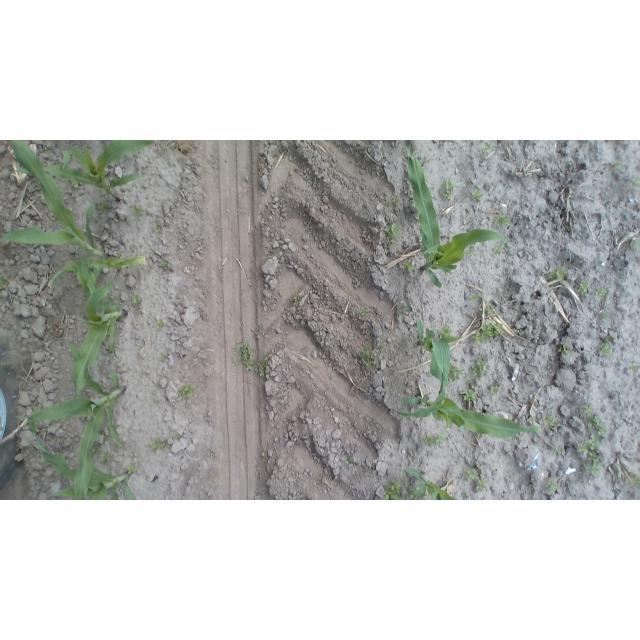Maize: (1, 147, 148, 290), (20, 334, 130, 500), (399, 141, 514, 292), (61, 247, 132, 402), (1, 140, 159, 200), (390, 386, 546, 438), (28, 429, 137, 500), (409, 314, 459, 414), (399, 466, 465, 500)
Weeds: (578, 435, 602, 477), (234, 339, 257, 373), (474, 321, 505, 343), (586, 415, 609, 438), (384, 222, 404, 245), (422, 430, 447, 448), (471, 355, 490, 378), (381, 481, 403, 500), (439, 178, 457, 201), (360, 347, 377, 369), (149, 436, 170, 453), (258, 352, 272, 377), (547, 265, 567, 281), (448, 362, 464, 382), (178, 384, 197, 400), (395, 302, 412, 318), (493, 214, 511, 229), (545, 476, 560, 494), (598, 342, 615, 357), (462, 390, 479, 405), (482, 301, 497, 318), (96, 199, 111, 214), (492, 241, 507, 255), (595, 285, 609, 300), (439, 325, 454, 338), (130, 204, 146, 216), (100, 451, 112, 467), (475, 476, 487, 492), (578, 281, 590, 296), (91, 442, 102, 457), (1, 274, 10, 292), (554, 444, 567, 456), (153, 219, 166, 231), (542, 414, 554, 427), (471, 188, 482, 202), (344, 456, 356, 468), (582, 404, 594, 416), (160, 258, 172, 270), (559, 343, 571, 355), (628, 472, 639, 485), (407, 490, 422, 499), (465, 468, 476, 480), (377, 340, 388, 352), (133, 293, 144, 305), (403, 259, 414, 271), (482, 142, 494, 153), (392, 194, 403, 206), (607, 331, 618, 343), (489, 385, 500, 396), (359, 306, 370, 317), (99, 431, 110, 442), (125, 465, 137, 475), (69, 179, 81, 189), (155, 318, 165, 330), (610, 161, 623, 170), (469, 293, 479, 304), (318, 472, 327, 484), (253, 329, 261, 342), (528, 414, 538, 424), (160, 352, 170, 362), (172, 431, 182, 441), (630, 363, 639, 374), (292, 293, 301, 304), (630, 176, 638, 188), (468, 245, 477, 255), (630, 239, 638, 250), (262, 451, 270, 462), (364, 468, 373, 477), (516, 329, 526, 337), (601, 312, 610, 320), (146, 263, 153, 273), (565, 224, 573, 232), (465, 379, 475, 385), (461, 491, 468, 499), (278, 261, 284, 270), (579, 477, 586, 484), (117, 443, 124, 448)
